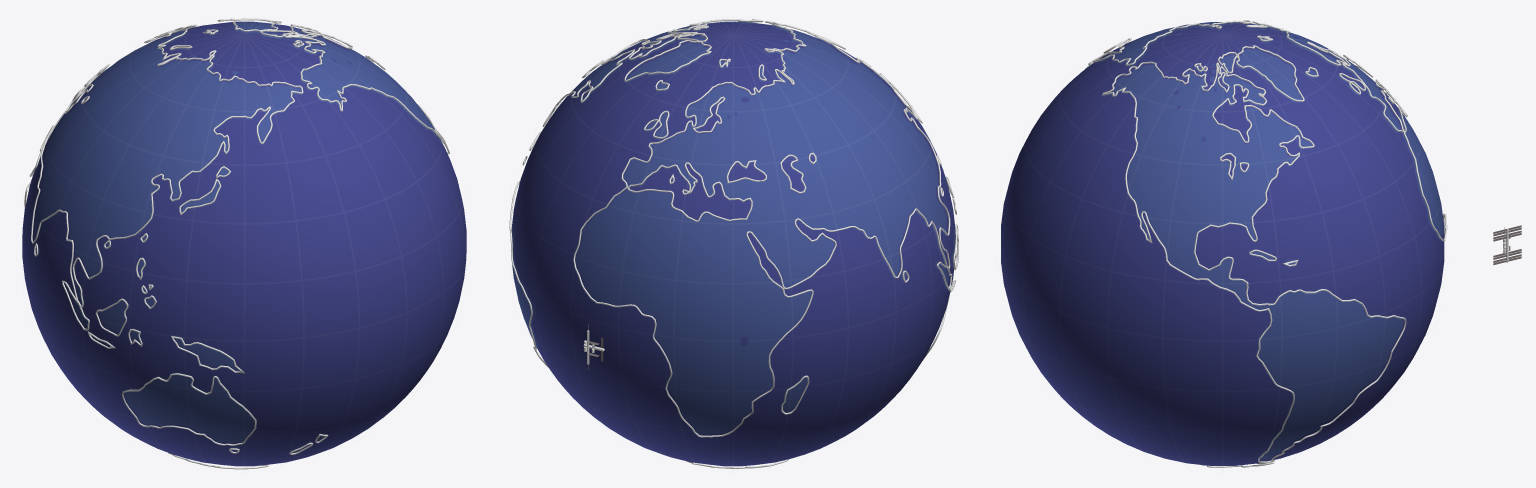
Rendered from globe_export.gltf.
3 views of the same model, side by side, from view 1: azimuth 30°, elevation 25°; view 2: azimuth 150°, elevation 25°; view 3: azimuth 270°, elevation 25° (orthographic).
Visible parts, largest first — view 1: globe_base, globe_shoreline; view 2: globe_base, globe_shoreline; view 3: globe_base, globe_shoreline, iss_solar_panels.
Part boxes in pixels (x1=…): globe_base: x1=22, y1=21, x2=466, y2=466; globe_shoreline: x1=24, y1=18, x2=449, y2=469; globe_base: x1=511, y1=21, x2=955, y2=466; globe_shoreline: x1=509, y1=19, x2=958, y2=468; globe_base: x1=1001, y1=22, x2=1444, y2=465; globe_shoreline: x1=1085, y1=20, x2=1447, y2=467; iss_solar_panels: x1=1493, y1=225, x2=1521, y2=265.
Size of the model in its own units: 13185 by 13166 by 15156.
Materials: 5 (1 with a texture image).
